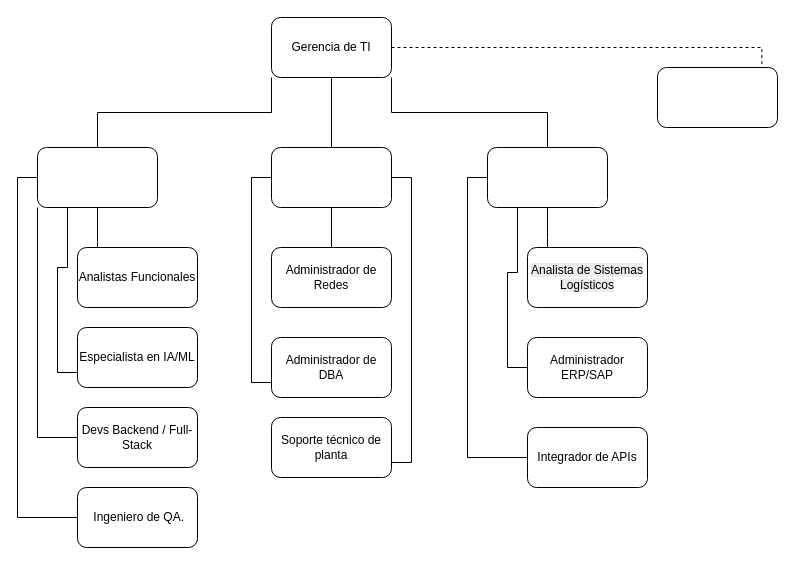
Image size: 795x565. Some labels were removed from this diagram. The centre of each missing label's shape, as x and y in pixels:
"Comité de Protección Digital y Gobernanza de Datos" belongs at point (717, 97).
"Jefatura de desarrollo de software e IA" belongs at point (97, 177).
"Jefatura de infraestructura y soporte" belongs at point (331, 177).
"Jefatura de sistemas logísticos y ERP" belongs at point (547, 177).
